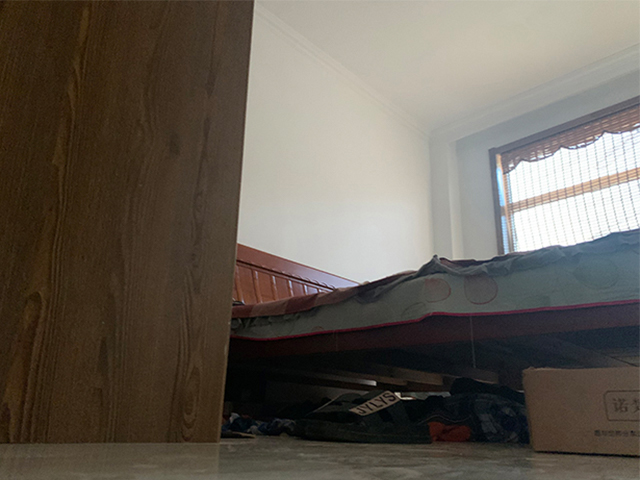bed: (223, 228, 640, 423)
slippers: (332, 387, 433, 444)
